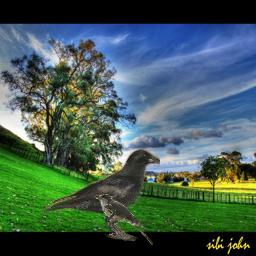Crow: (41, 148, 160, 241)
Cuckoo: (94, 194, 153, 245)
